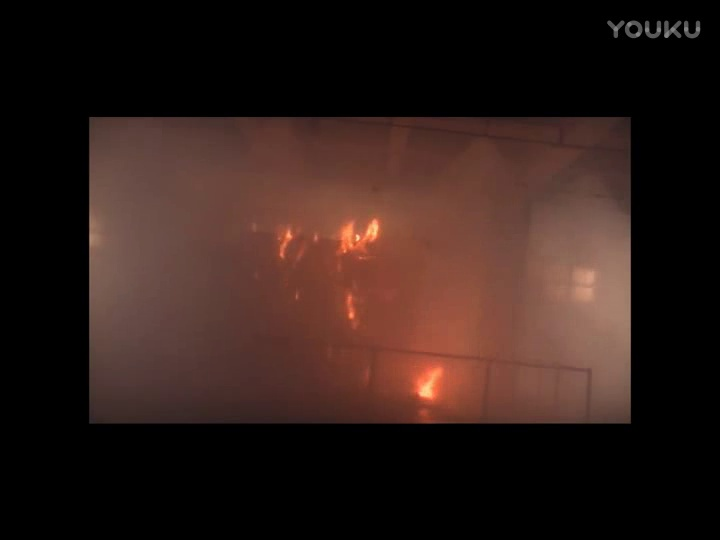fire: (412, 360, 445, 401)
